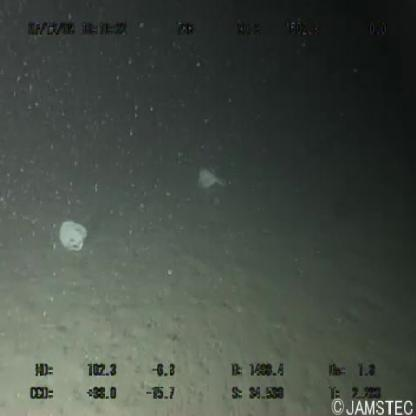Rác: (56, 216, 93, 254), (196, 161, 229, 195)
